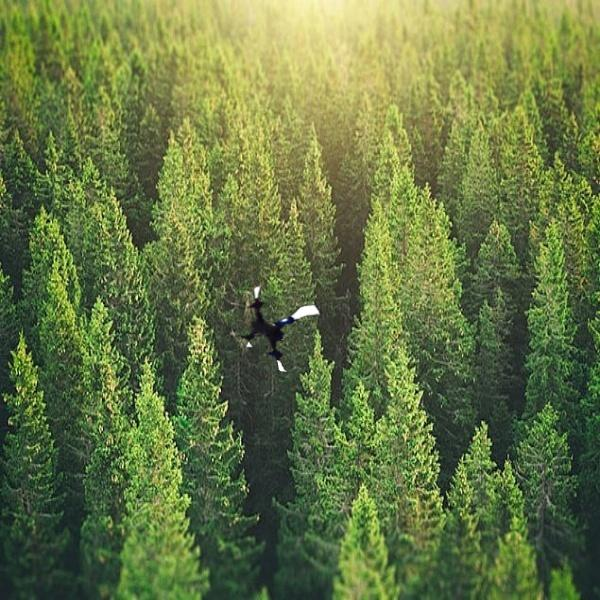drone: (237, 282, 334, 379)
